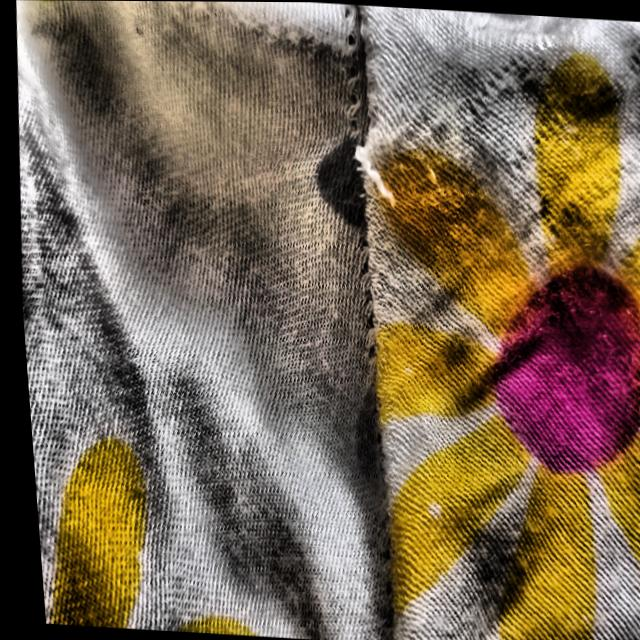Stitch: (307, 107, 462, 231)
